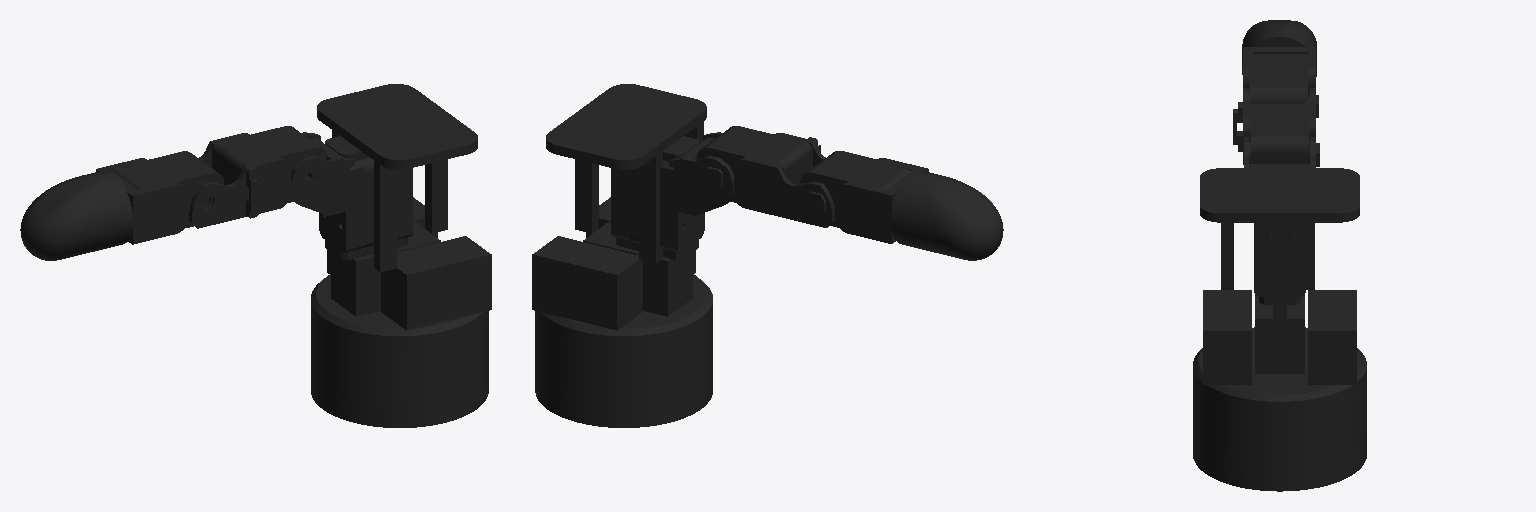
The robot description file, URDF, robot "delto_gripper_3f":
<?xml version="1.0" ?>

<robot name="delto_gripper_3f">

   <material name="silver">
      <color rgba="0.700 0.700 0.700 1"/>
   </material>

   <material name="black">
      <color rgba="0.196 0.196 0.196 1"/>
   </material>

   <material name="white">
      <color rgba="0.8 0.8 0.8 1"/>
   </material>

   <link name="delto_base_link">

      <inertial>
         <origin xyz="0.000883196 -7.49966e-05 0.0324928" rpy="0 0 0"/>
         <mass value="0.370"/>
         <inertia ixx="0.0003269" iyy="0.000311459" izz="0.000182324" ixy="-4.81638e-07" ixz="2.90647e-06" iyz="1.4022e-06"/>
      </inertial>

      <visual>
         <origin xyz="0 0 0" rpy="0 0 0"/>
         <geometry>
            <mesh filename="meshes/visual/delto_base_link.stl" scale="0.001 0.001 0.001"/>
         </geometry>
         <material name="black"/>
      </visual>

      <collision>
         <origin xyz="0 0 0" rpy="0 0 0"/>
         <geometry>
            <mesh filename="meshes/collision/delto_base_link.stl" scale="0.001 0.001 0.001"/>
         </geometry>
      </collision>

   </link>


 <link name="F1_01">

      <inertial>
      
         <origin xyz="0.000365161 1.10309e-07 0.0215156" rpy= "0 0 0"/>
         <mass value="0.061"/>
         <inertia ixx="1.89742e-05" iyy="2.20546e-05" izz="7.1394e-06" ixy="0" ixz="-2.59697e-07" iyz="0"/>
      </inertial>

      <visual>
         <origin xyz="0 0 0" rpy="0 0 0"/>
         <geometry>
            <mesh filename="meshes/visual/link_01.stl" scale="0.001 0.001 0.001"/>
         </geometry>
         <material name="black"/>
      </visual>
      
      <collision>
         <origin xyz="0 0 0" rpy="0 0 0"/>
         <geometry>
            <mesh filename="meshes/collision/link_01.stl" scale="0.001 0.001 0.001"/>
         </geometry>
      </collision> 

   </link>



   <link name="F1_02">
      <inertial>
         <origin xyz="0.00353133 0.000519754 0.00690092" rpy="0 0 0"/>
         <mass value="0.025"/>
         <inertia ixx="3.51946e-06" iyy="2.02334e-06" izz="3.33911e-06" ixy="-6.14263e-08" ixz="-2.82283e-07" iyz="-1.17458e-07"/>
      </inertial>

      <visual>
         <origin xyz="0 0 0" rpy="0 0 0"/>
         <geometry>
            <mesh filename="meshes/visual/link_02.stl" scale="0.001 0.001 0.001"/>
         </geometry>
         <material name="black"/>
      </visual>

      <collision>
         <origin xyz="0 0 0" rpy="0 0 0"/>
         <geometry>
            <mesh filename="meshes/collision/link_02.stl" />
         </geometry>
      </collision>
   </link>
   <link name="F1_03">
      <inertial>
         <origin xyz="-0.0112398 9.3567e-05 -0.000281754" rpy="0 0 0"/>
         <mass value="0.051"/>
         <inertia ixx="4.27392e-06" iyy="9.20872e-06" izz="7.9414e-06" ixy="1.28652e-07" ixz="1.82142e-08" iyz="-3.12743e-09"/>
      </inertial>

      <visual>
         <origin xyz="0 0 0" rpy="0 0 0"/>
         <geometry>
            <mesh filename="meshes/visual/link_03.stl" scale="0.001 0.001 0.001"/>
         </geometry>
         <material name="black"/>
      </visual>
      <collision>
         <origin xyz="0 0 0" rpy="0 0 0"/>
         <geometry>
            <mesh filename="meshes/collision/link_03.stl" scale="0.001 0.001 0.001"/>
         </geometry>
      </collision>
   </link>
   <link name="F1_04">
      <inertial>
         <origin xyz="-0.0241548 0.000398931 -0.0001378" rpy="0 0 0"/>
         <mass value="0.0710"/>
         <inertia ixx="5.92843e-06" iyy="3.20691e-05" izz="3.11001e-05" ixy="9.13193e-07" ixz="3.8959e-08" iyz="-1.03979e-09"/>
      </inertial>

      <visual>
         <origin xyz="0 0 0" rpy="0 0 0"/>
         <geometry>
            <mesh filename="meshes/visual/link_04.stl" scale="0.001 0.001 0.001"/>
         </geometry>
         <material name="black"/>
      </visual>

      <collision>
         <origin xyz="0 0 0" rpy="0 0 0"/>
         <geometry>
            <mesh filename="meshes/collision/link_04.stl" scale="0.001 0.001 0.001"/>
         </geometry>
      </collision>

   </link>
   <link name="F1_TIP">
      <inertial>
         <origin xyz="0 0 0" rpy="0 0 0"/>
         <mass value="0.0"/>
         <inertia ixx="0" iyy="0" izz="0" ixy="0" ixz="0" iyz="0"/>
      </inertial>
   </link>

   <!--Joint -->

   <joint name = "F1M1" type = "revolute">
      <origin xyz="-0.01320 0.0 0.06180" rpy="0 0 0"/>
      <parent link="delto_base_link"/>
      <child link="F1_01"/>
      <axis xyz="0.0 0.0 1.0"/>
      <limit effort="10.0" velocity="5.0" lower="-1.0472" upper="1.0472" />
      <dynamics damping="1.1" friction="1.1"/>
   </joint>

   <joint name = "F1M2" type = "revolute">
      <origin xyz="-0.01420 0.0 0.03030" rpy="0 -1.57078 0"/>
      <parent link="F1_01"/>
      <child link="F1_02"/>
      <axis xyz="0.0 0.0 1.0"/>
      <limit effort="10.0" velocity="5.0" lower="-1.76278" upper="1.76278" />
      <dynamics damping="1.1" friction="1.1"/>
   </joint>
   <joint name = "F1M3" type = "revolute">
      <origin xyz="0.01010 0 0.01750 " rpy="0 1.57078 1.57078"/>
      <parent link="F1_02"/>
      <child link="F1_03"/>
      <axis xyz="0.0 0.0 1.0"/>
      <limit effort="10.0" velocity="5.0" lower="-0.15708" upper="2.53073" />
      <dynamics damping="1.1" friction="1.1"/>
   </joint>

   <joint name = "F1M4" type = "revolute">
      <origin xyz="-0.0434 0.0 0.0" rpy="0 0 0"/>
      <parent link="F1_03"/>
      <child link="F1_04"/>
      <axis xyz="0.0 0.0 1.0"/>
      <limit effort="10.0" velocity="5.0" lower="-0.226893" upper="2.02458"/>
      <dynamics damping="1.1" friction="1.1"/>
   </joint>   

    <joint name = "TIP1" type="fixed">
      <origin xyz="-0.05587 -0.00922 0.0 " rpy="1.57078 0 0 "/>
      <parent link="F1_04"/>
      <child link="F1_TIP"/>
   </joint>

</robot>

--- Render facts (derived) ---
3 views of the same robot in one strip: view 1: azimuth 30°, elevation 25°; view 2: azimuth 150°, elevation 25°; view 3: azimuth 270°, elevation 25° (orthographic).
Model delto_gripper_3f with 6 links and 5 joints (4 revolute, 1 fixed), rooted at delto_base_link, posed all joints at 0.
Visible links, largest first — view 1: delto_base_link, F1_04, F1_03, F1_01, F1_02; view 2: delto_base_link, F1_04, F1_03, F1_01, F1_02; view 3: delto_base_link, F1_04, F1_03, F1_01, F1_02.
Link boxes in pixels (left/top/right/bottom): delto_base_link: left=311, top=84, right=491, bottom=427; F1_04: left=20, top=151, right=223, bottom=260; F1_03: left=189, top=126, right=326, bottom=228; F1_01: left=319, top=136, right=412, bottom=259; F1_02: left=290, top=132, right=354, bottom=215; delto_base_link: left=532, top=84, right=712, bottom=427; F1_04: left=800, top=151, right=1003, bottom=260; F1_03: left=697, top=126, right=834, bottom=227; F1_01: left=611, top=136, right=704, bottom=259; F1_02: left=669, top=132, right=733, bottom=215; delto_base_link: left=1193, top=168, right=1366, bottom=491; F1_04: left=1242, top=20, right=1316, bottom=102; F1_03: left=1233, top=88, right=1318, bottom=164; F1_01: left=1254, top=223, right=1305, bottom=304; F1_02: left=1244, top=137, right=1319, bottom=167.
Size in the robot's own frame: 0.1904 by 0.065 by 0.116 metres.
Meshes: 5 distinct files referenced, 5 mesh visuals loaded (5 binary STL).